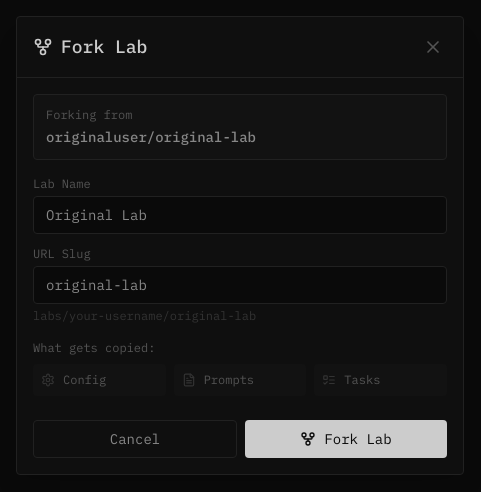
Test: ForkDialog › shows success state after forking
Click the button "Fork Lab" at (346, 438), box left=245, top=420, right=447, bottom=458
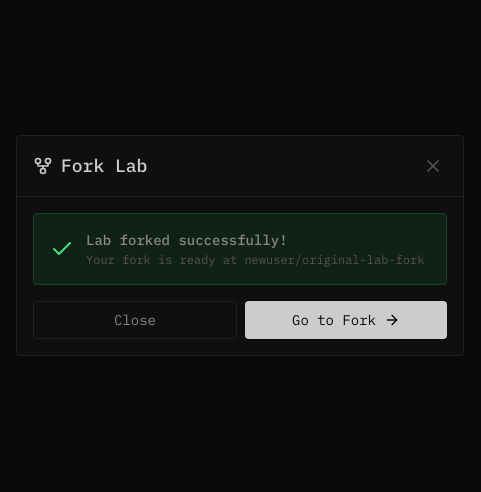
Expected: the text "Lab forked successfully!" is shown, left=86, top=230, right=288, bottom=248
Expected: the link "Go to Fork" is shown, left=245, top=300, right=447, bottom=338
